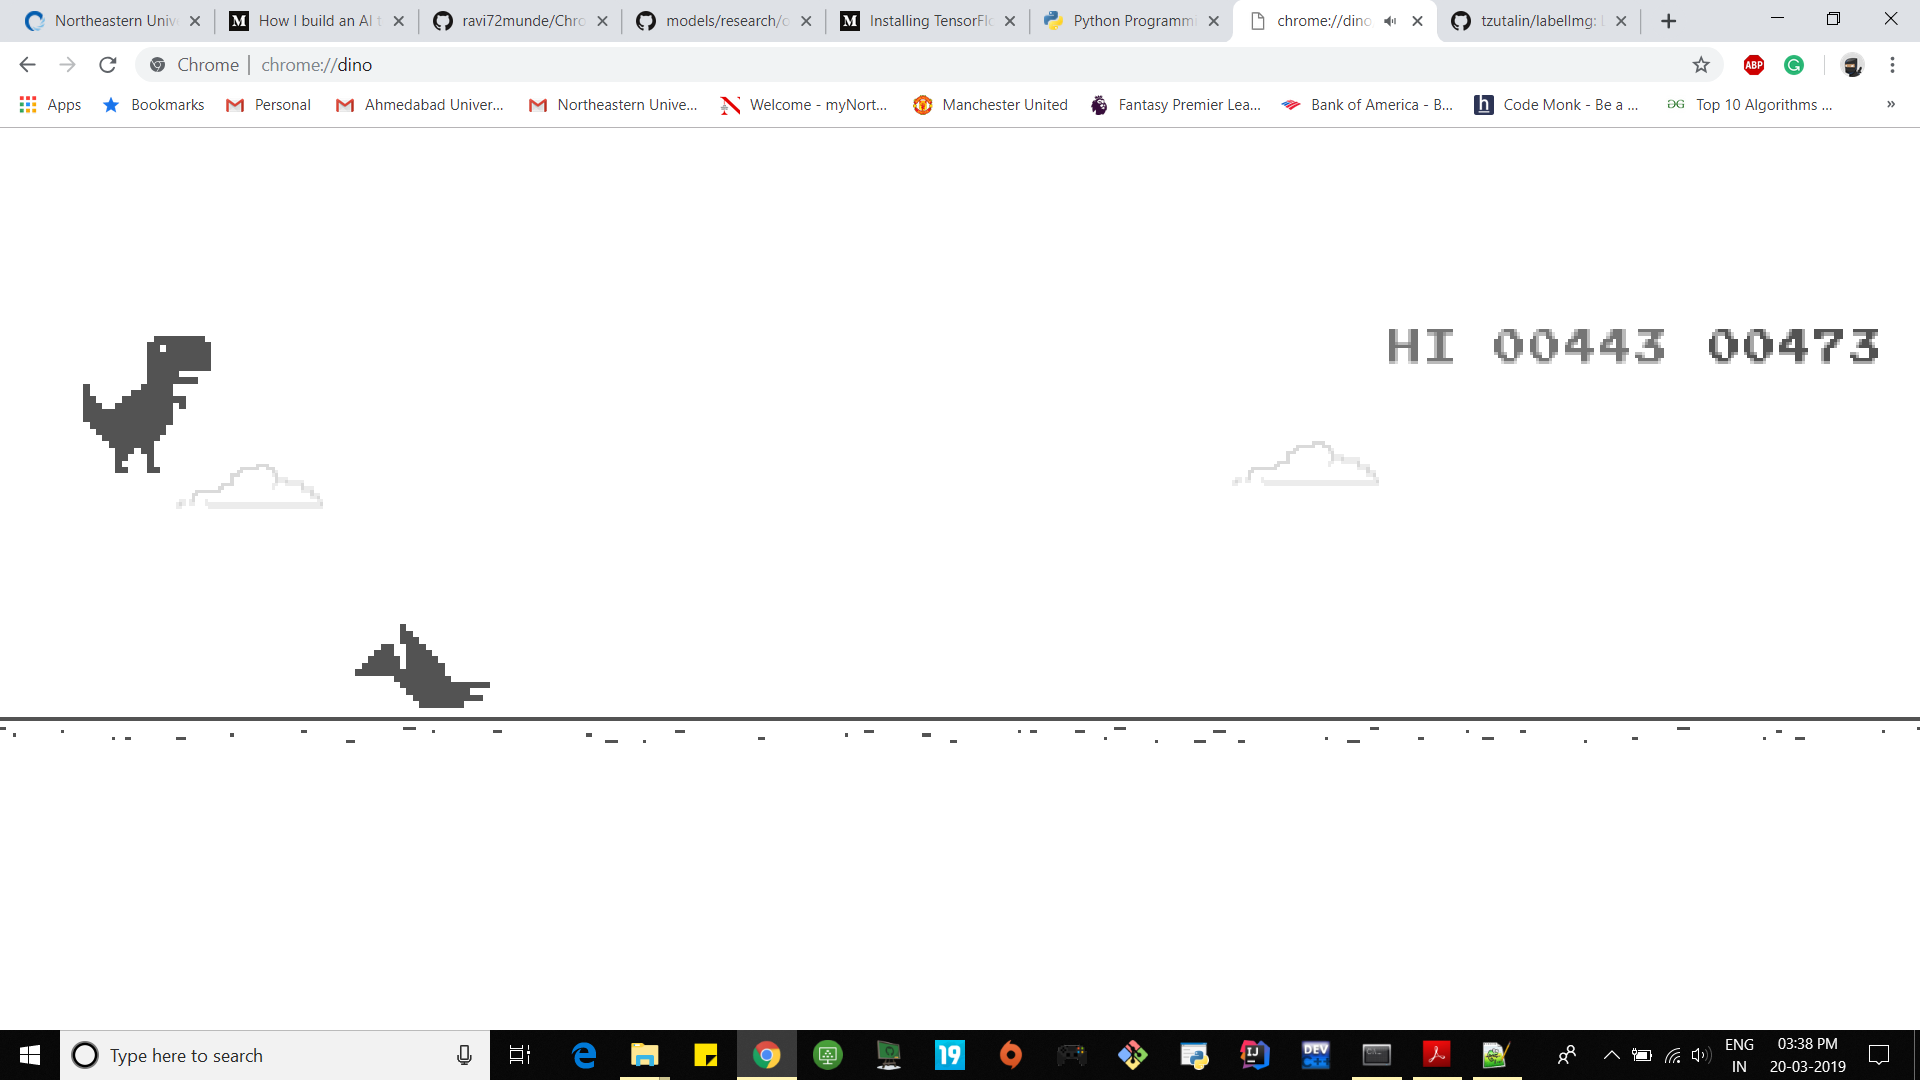bird: (356, 622, 489, 715)
dino: (75, 335, 214, 472)
